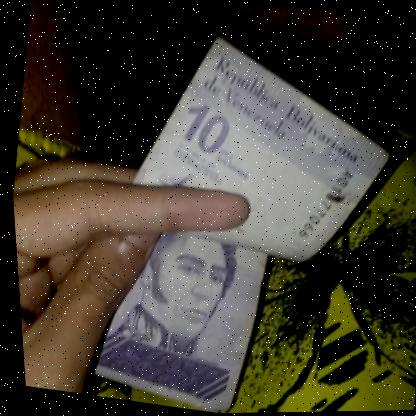ten-front-vef: (70, 19, 416, 415)
